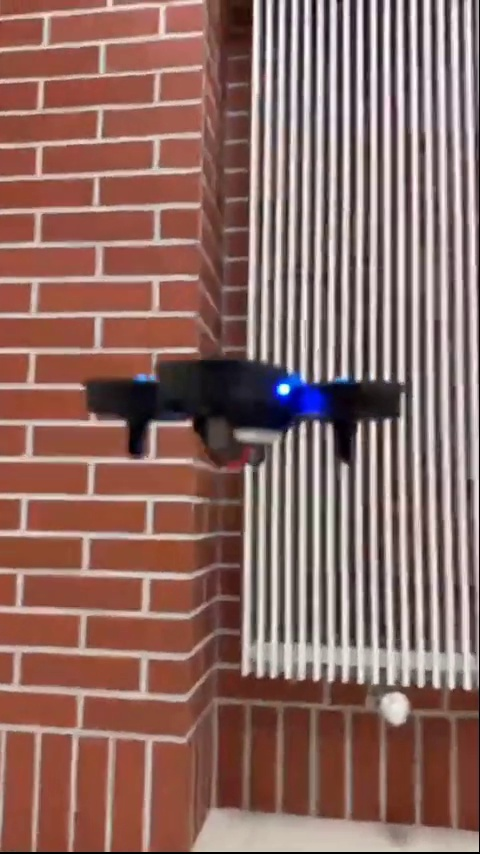drone: (72, 358, 402, 476)
